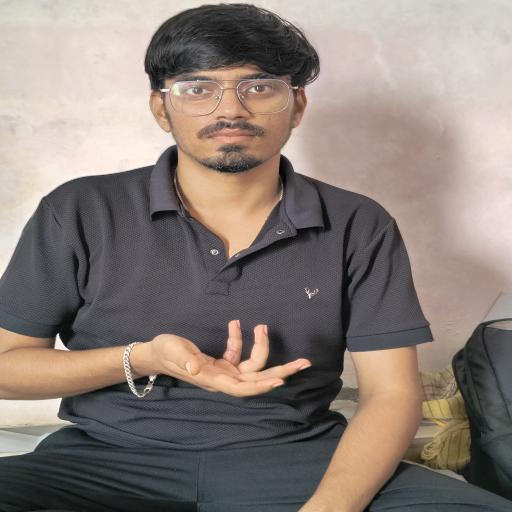Help: (97, 306, 333, 424)
